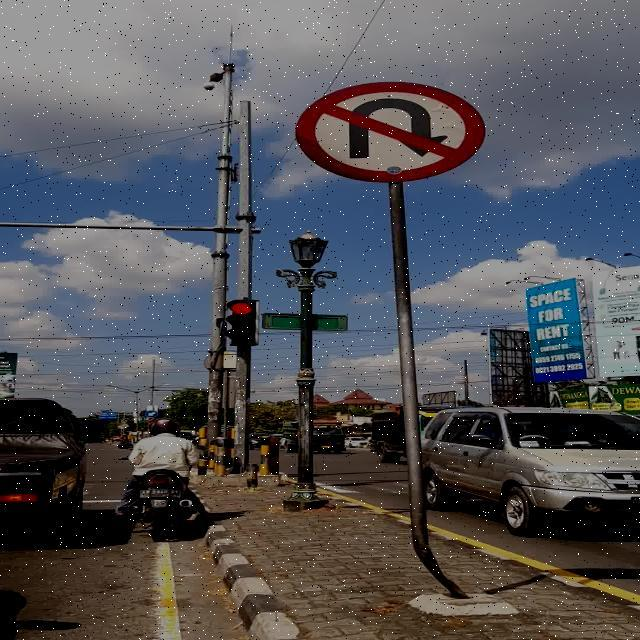Dilarang Putar Balik: (295, 81, 486, 182)
